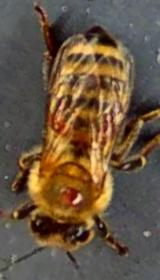varroa_mite: (49, 177, 90, 220)
